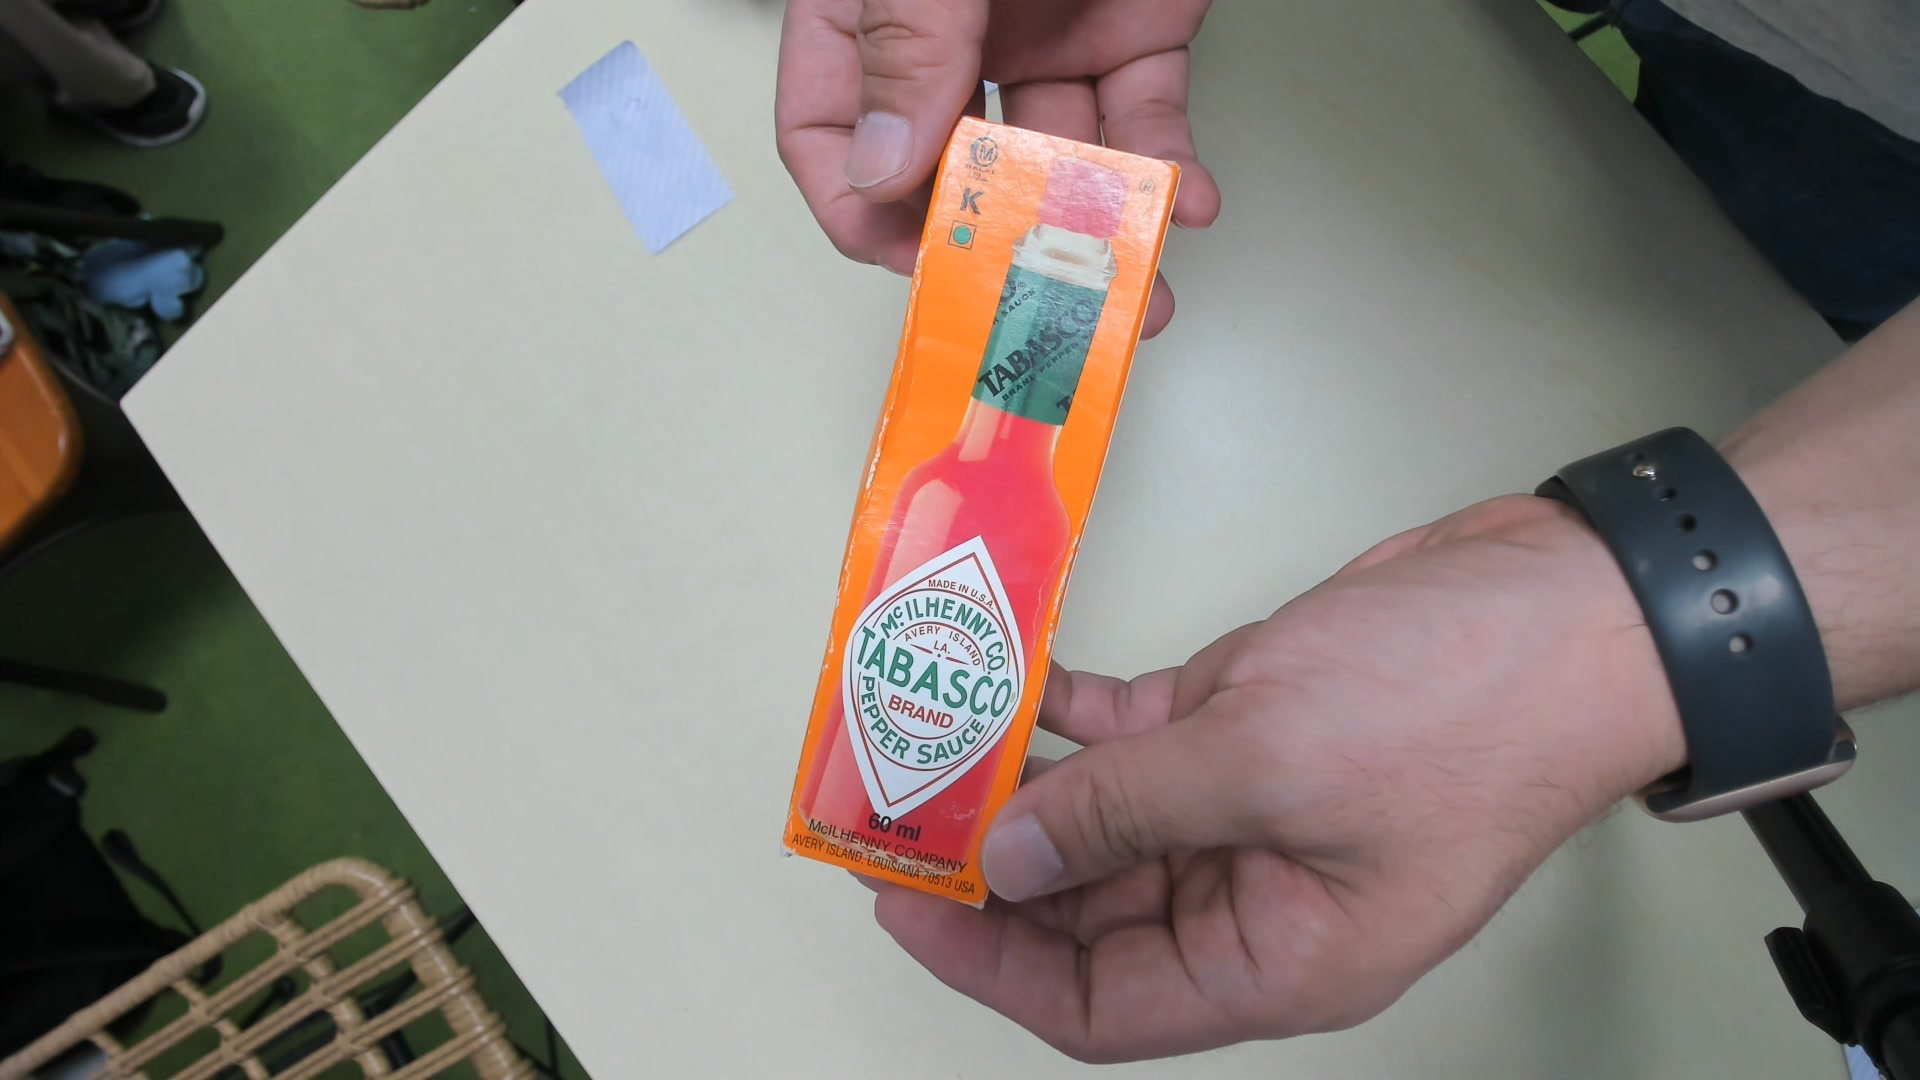KetchupChillSauce_0-99g_NonHalal_NonHealthy: (785, 108, 1179, 913)
